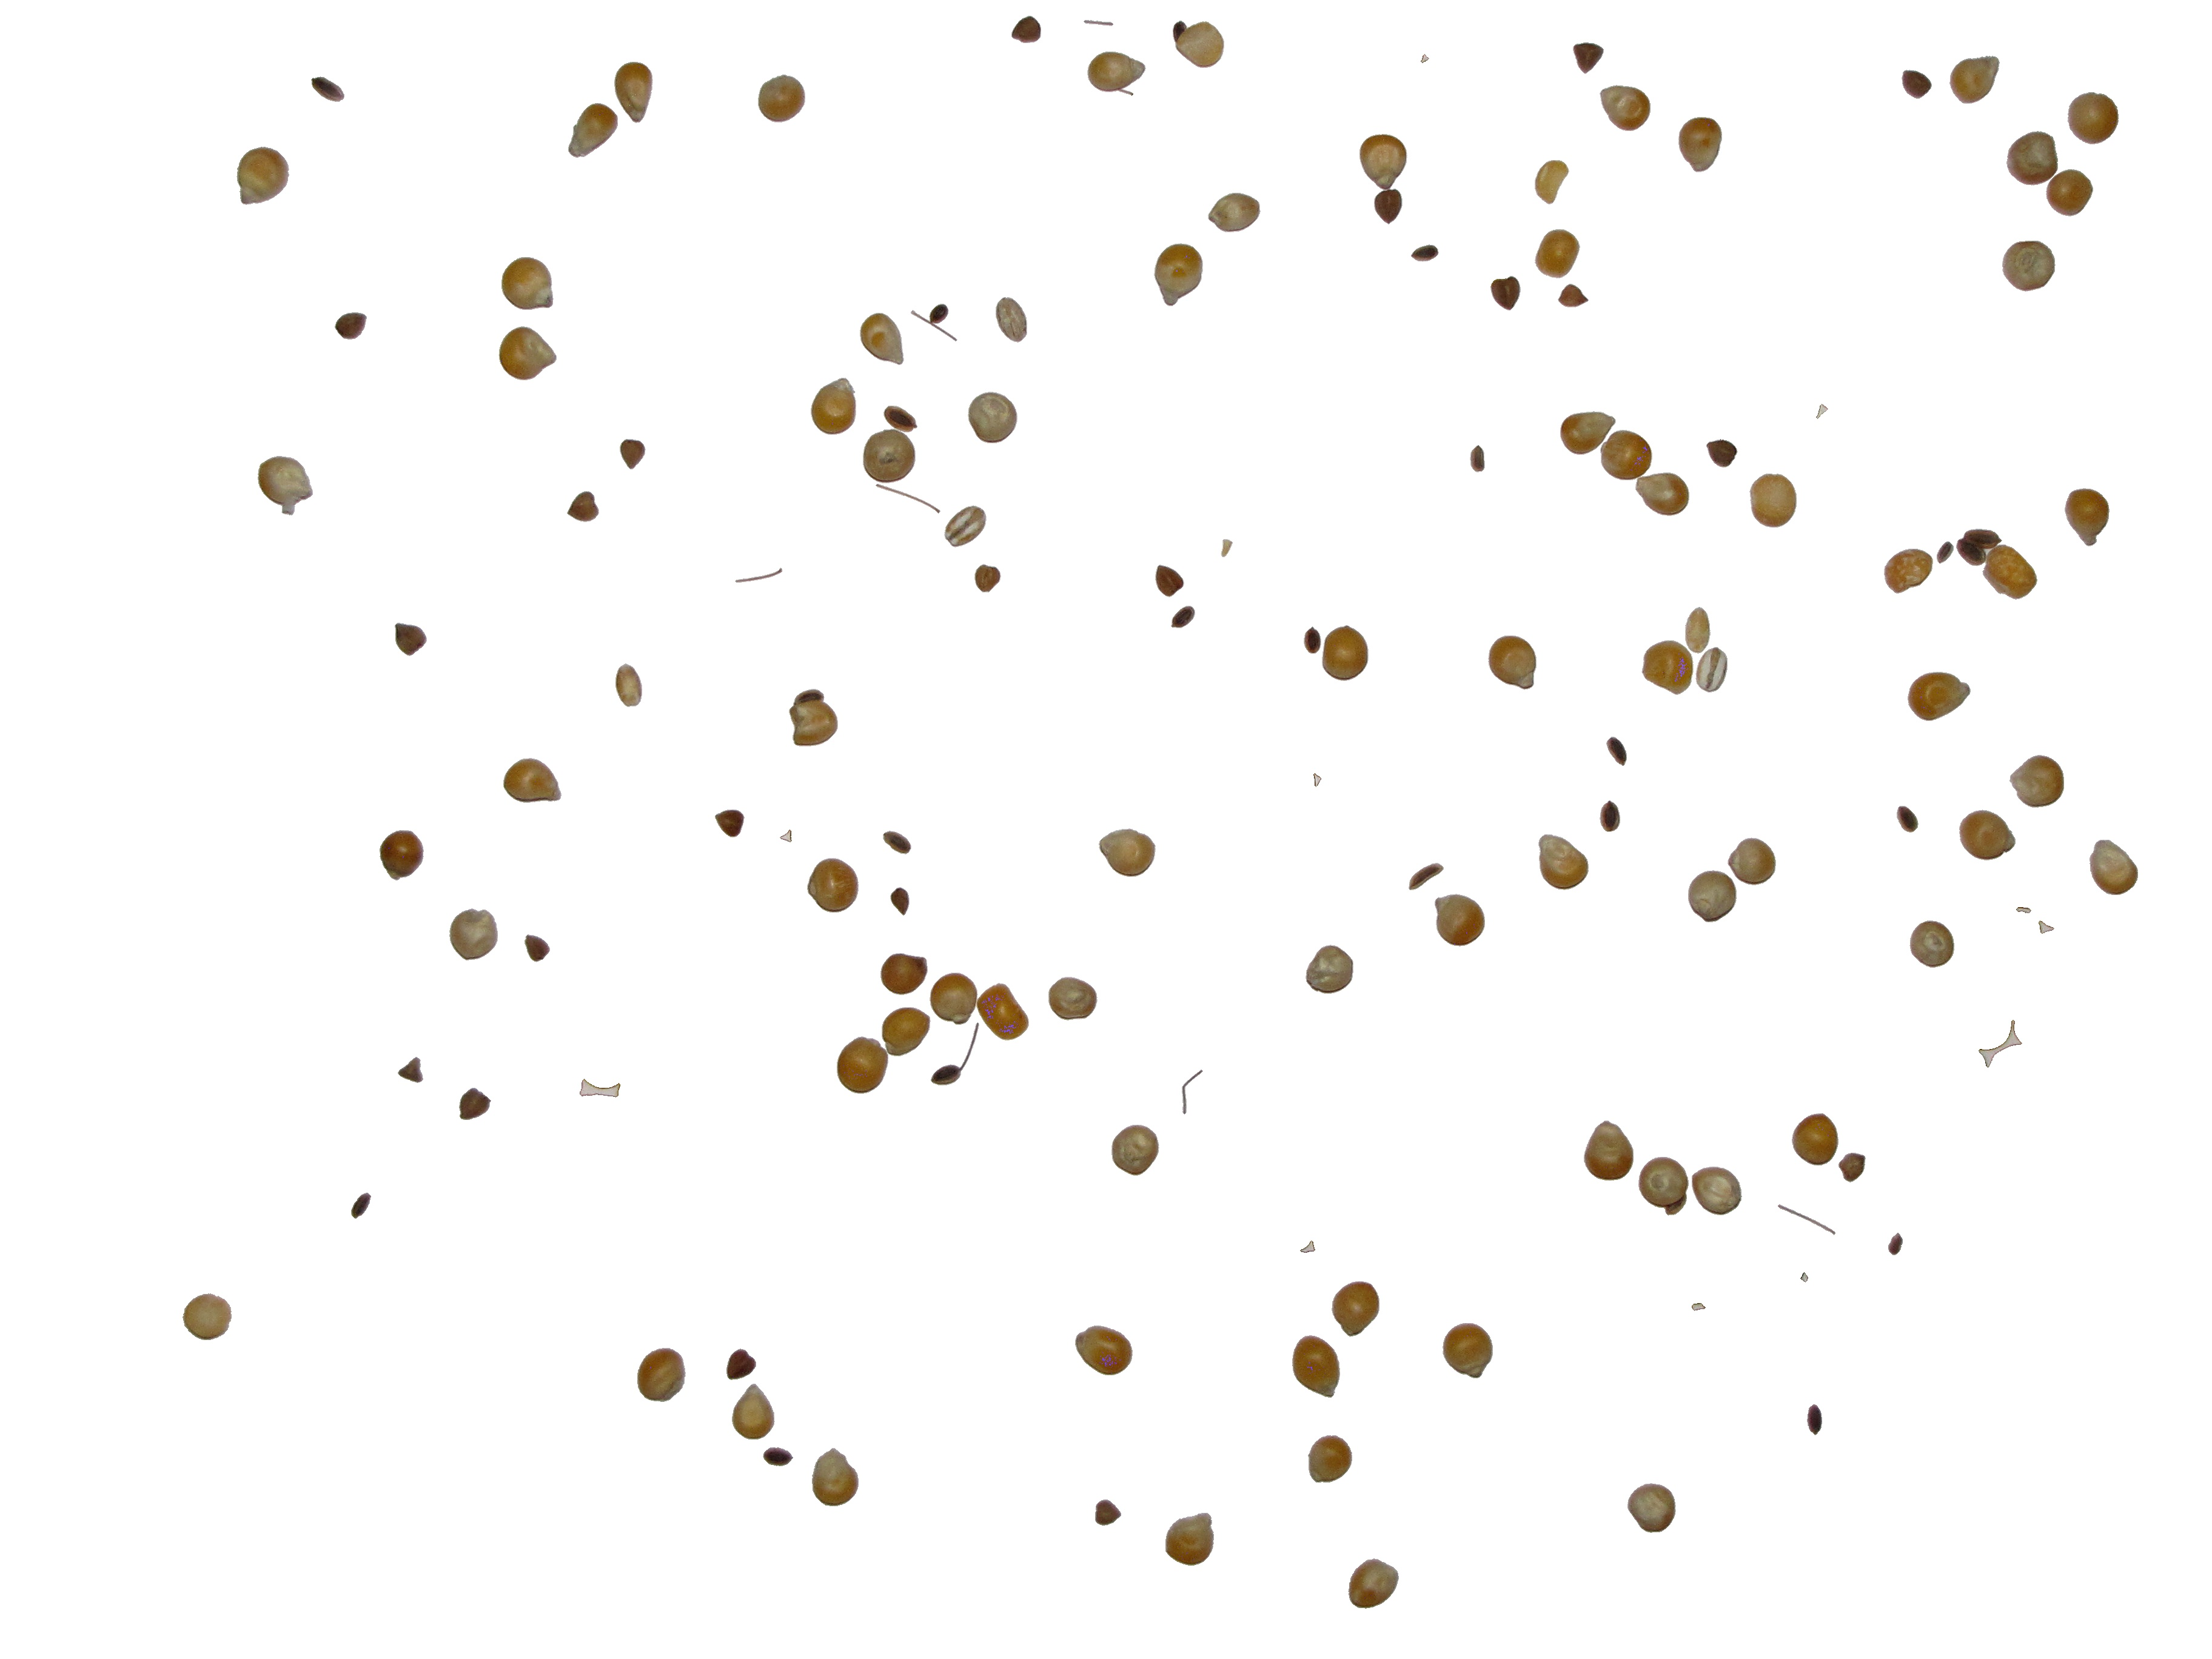buckwheat: (1956, 530, 2001, 566), (395, 624, 427, 655), (1491, 277, 1521, 310), (726, 1349, 756, 1380), (568, 491, 599, 521), (460, 1089, 491, 1119), (1374, 190, 1402, 223), (1409, 863, 1444, 889), (1573, 44, 1602, 73), (1157, 565, 1184, 596), (1902, 70, 1932, 98), (1707, 439, 1737, 467), (885, 406, 916, 432), (336, 314, 366, 340), (312, 77, 343, 101), (1839, 1154, 1865, 1182), (716, 810, 744, 836), (1012, 16, 1040, 42), (620, 439, 644, 469), (975, 565, 1000, 592), (1559, 284, 1588, 307), (524, 936, 549, 962), (883, 831, 911, 854), (399, 1058, 423, 1082), (1096, 1500, 1120, 1525), (1601, 802, 1620, 831), (1608, 737, 1627, 765), (890, 887, 909, 915), (763, 1448, 792, 1466), (1897, 807, 1918, 831), (1172, 606, 1195, 627), (352, 1194, 371, 1218), (1411, 246, 1439, 261), (1808, 1405, 1822, 1434), (1305, 627, 1320, 653), (1472, 446, 1486, 472), (1937, 542, 1952, 563), (930, 305, 948, 322), (1888, 1234, 1902, 1255)
dill: (932, 1023, 979, 1084), (876, 484, 941, 512), (1778, 1204, 1834, 1234), (911, 310, 956, 342), (1183, 1070, 1202, 1114), (735, 568, 782, 582), (1083, 21, 1113, 26)
mais: (258, 457, 312, 514), (1982, 545, 2036, 599), (500, 328, 556, 380), (237, 148, 289, 204), (977, 983, 1028, 1040), (1585, 1121, 1634, 1180), (1155, 244, 1202, 305), (1292, 1337, 1339, 1398), (1909, 673, 1970, 720), (838, 1037, 888, 1093), (1639, 1157, 1688, 1215), (2010, 756, 2064, 807), (864, 429, 914, 483), (789, 690, 838, 746), (1959, 810, 2015, 859), (1076, 1326, 1132, 1375), (1642, 641, 1693, 694), (2003, 240, 2055, 291), (808, 859, 859, 911), (2006, 132, 2057, 185), (502, 258, 554, 308), (1540, 835, 1588, 889), (1444, 1324, 1493, 1378), (1360, 134, 1407, 190), (1099, 829, 1155, 877), (813, 1448, 859, 1506), (2067, 92, 2118, 143), (1165, 1513, 1214, 1565), (1435, 894, 1484, 946), (1332, 1283, 1379, 1337), (2090, 840, 2137, 894), (1489, 636, 1536, 690), (1089, 52, 1146, 96), (2066, 488, 2109, 545), (503, 758, 561, 802), (1348, 1560, 1399, 1608), (968, 392, 1017, 443), (1601, 430, 1651, 479), (570, 105, 617, 157), (930, 972, 977, 1025), (637, 1349, 685, 1401), (1322, 626, 1367, 680), (812, 378, 855, 434), (1174, 21, 1224, 68), (1689, 871, 1737, 922), (449, 910, 496, 960), (1750, 474, 1796, 526), (1561, 411, 1615, 455), (1635, 472, 1689, 516), (733, 1384, 775, 1439), (1951, 56, 2000, 103), (1306, 945, 1353, 993), (883, 1007, 930, 1056), (1629, 1483, 1676, 1532), (1111, 1126, 1158, 1175), (1693, 1168, 1742, 1215), (1792, 1114, 1838, 1164), (615, 63, 653, 122), (1728, 838, 1775, 885), (183, 1295, 232, 1340), (1601, 85, 1649, 131), (860, 314, 904, 364), (1679, 118, 1721, 171), (1534, 230, 1580, 277), (2047, 169, 2092, 216), (759, 75, 805, 122), (1885, 549, 1933, 592), (380, 831, 423, 880), (1049, 978, 1097, 1019), (1911, 922, 1954, 967), (1308, 1436, 1352, 1481), (1209, 193, 1259, 232), (881, 953, 927, 995), (1534, 160, 1569, 204), (996, 298, 1026, 342)
other: (1979, 1021, 2022, 1066), (944, 505, 986, 547), (1696, 648, 1726, 692), (1686, 608, 1710, 653), (617, 664, 641, 706), (580, 1079, 620, 1096), (1301, 1241, 1315, 1253), (2040, 922, 2054, 934), (1221, 540, 1231, 556), (1817, 404, 1827, 418), (780, 829, 791, 842), (1313, 774, 1320, 786), (1693, 1303, 1705, 1310), (1801, 1272, 1808, 1283), (2017, 908, 2031, 913), (1421, 54, 1428, 63)
